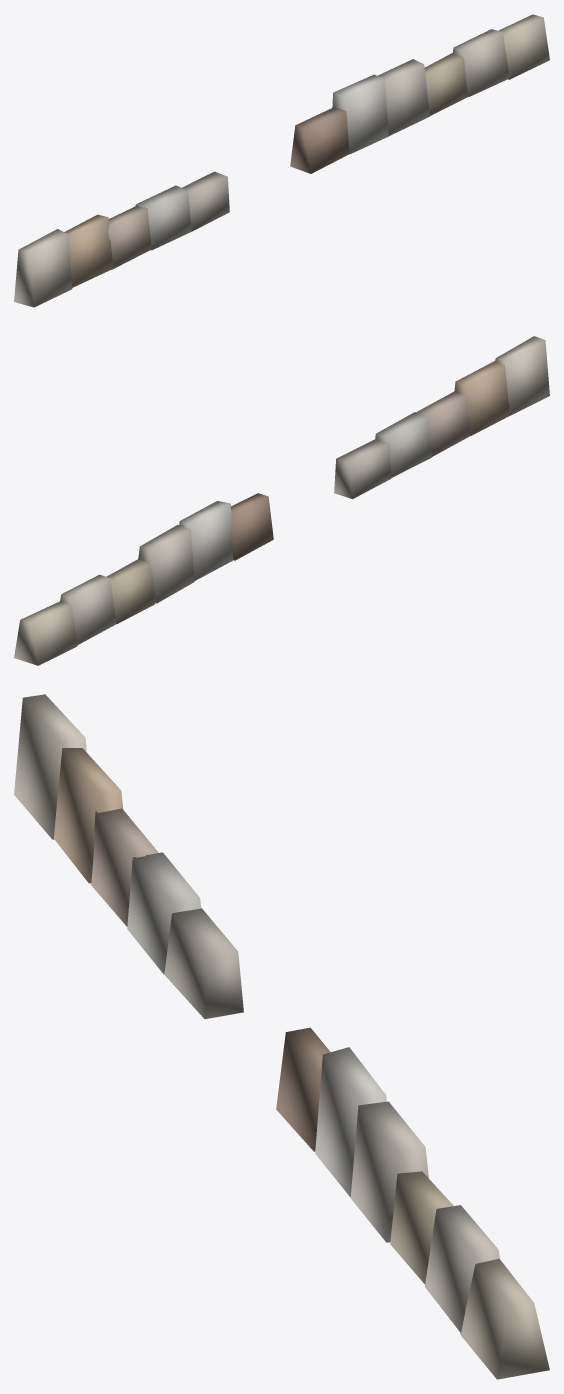
Rendered from farm_25_12_far.glb.
The picture shows the model from 3 angles, top to bottom: view 1: azimuth 30°, elevation 25°; view 2: azimuth 210°, elevation 25°; view 3: azimuth 270°, elevation 25°; orthographic projection. The views are drawn at different scales.
Parts seen in each view (by area): view 1: geometry_0; view 2: geometry_0; view 3: geometry_0.
Part boxes in pixels (x1,y1,x2,y2): geometry_0: [14, 14, 549, 307]; geometry_0: [14, 336, 549, 665]; geometry_0: [14, 694, 549, 1379].
Size of the model in its own units: 18.42 by 1.73 by 7.29.
